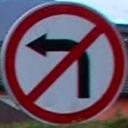NoVirarEsquerda: (1, 1, 128, 126)
